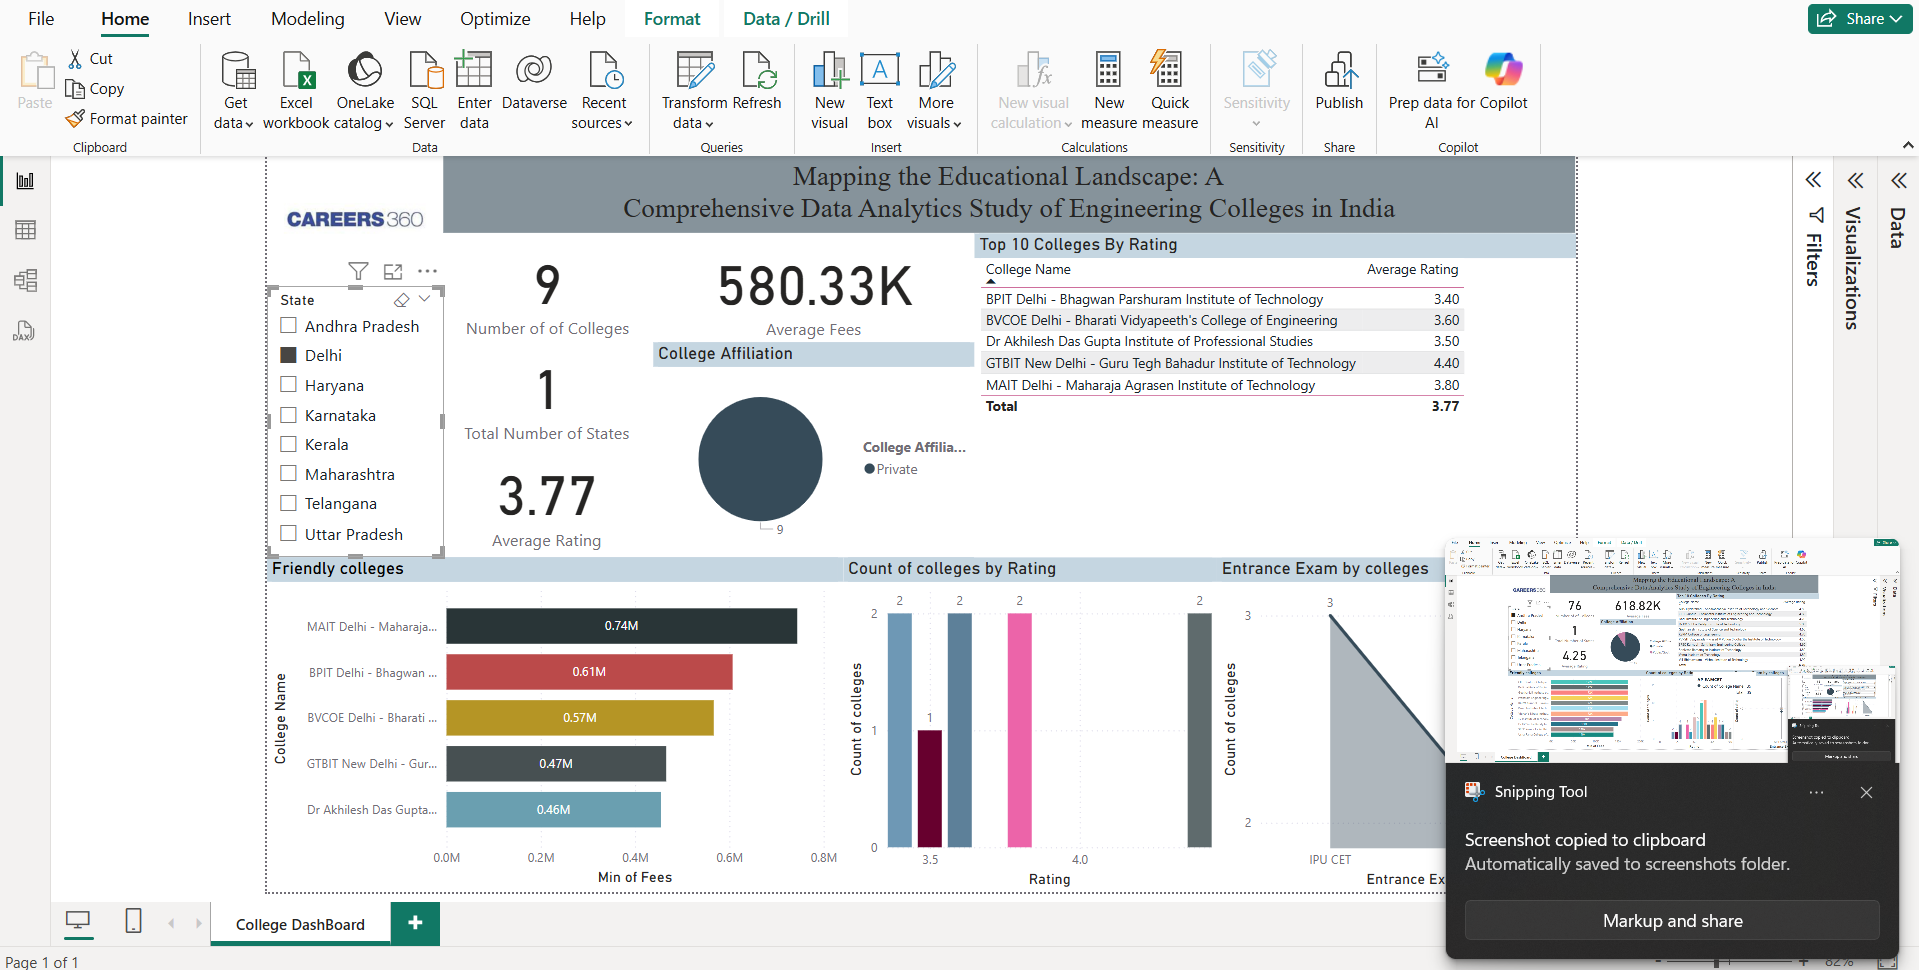

The page's visual inventory and layout, read from the dashboard file:
{"tool":"powerbi","page":{"name":"College DashBoard","canvas":[1280,720],"ordinal":0},"visuals":[{"type":"card","fields":{"Values":["Sheet.Average_Fees"]},"box":[377.4,75.5,314.2,109.8],"z":0},{"type":"card","fields":{"Values":["College_data.Count_ccolleges"]},"box":[172.4,75.8,204.2,107.6],"z":1000},{"type":"card","fields":{"Values":["College_data.no_stares"]},"box":[172.9,182.5,203.1,100.2],"z":2000},{"type":"slicer","fields":{"Values":["College_data.State"]},"box":[0,127.6,172.9,264.8],"z":3000},{"type":"textbox","box":[172.9,0,1107.4,75.5],"z":4000},{"type":"pieChart","title":"College Affiliation","fields":{"Category":["College_data.College Affiliation"],"Y":["College_data.Number of of Colleges"]},"box":[377.4,182.5,314.2,209.9],"z":5000},{"type":"card","fields":{"Values":["College_data.Average Rating"]},"box":[172.9,282.7,203.1,108.4],"z":6000},{"type":"columnChart","title":"Count of colleges by Rating","fields":{"Category":["Sheet.Rating"],"Y":["CountNonNull(Sheet.College Name)"],"Series":["Sheet.Rating"]},"box":[563.7,392.5,365.6,327.7],"z":7000},{"type":"barChart","title":"Friendly colleges","fields":{"Category":["College_data.College Name"],"Series":["College_data.College Name"],"Y":["Min(College_data.Fees)"]},"box":[0,392.5,563.7,326.5],"z":8000},{"type":"stackedAreaChart","title":"Entrance Exam by colleges","fields":{"Category":["Sheet.Entrance Exam"],"Y":["Count(College_data.College Name)"]},"box":[929.4,392.5,351,327.7],"z":9000},{"type":"image","box":[0,0,172.4,122.3],"z":10000},{"type":"tableEx","title":"Top 10 Colleges By Rating","fields":{"Values":["College_data.College Name","College_data.Average Rating"]},"box":[691.6,75.5,588.7,317],"z":11000}]}

Visuals, with their boxes on the page's 1280x720 design canvas (x1, y1, x2, y2). These are canvas units, not pixel positions in the 1919x970 screenshot, which may show the page scaled, cropped or inside an application window:
card - Sheet.Average_Fees: 377,76,692,185
card - College_data.Count_ccolleges: 172,76,377,183
card - College_data.no_stares: 173,182,376,283
slicer - College_data.State: 0,128,173,392
textbox: 173,0,1280,76
"College Affiliation" pieChart: 377,182,692,392
card - College_data.Average Rating: 173,283,376,391
"Count of colleges by Rating" columnChart: 564,392,929,720
"Friendly colleges" barChart: 0,392,564,719
"Entrance Exam by colleges" stackedAreaChart: 929,392,1280,720
image: 0,0,172,122
"Top 10 Colleges By Rating" tableEx: 692,76,1280,392
